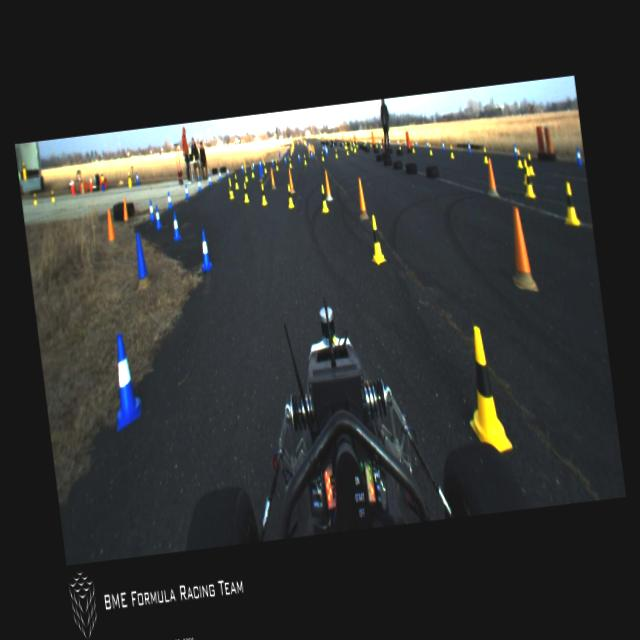blue_cone: (105, 332, 144, 432), (197, 228, 213, 270), (170, 212, 181, 240), (152, 204, 162, 230), (148, 200, 156, 222), (574, 146, 582, 166), (166, 190, 172, 210), (183, 183, 190, 200), (196, 176, 202, 192), (512, 143, 518, 159), (134, 172, 140, 186), (466, 140, 471, 154), (207, 174, 211, 186), (218, 168, 222, 180), (240, 162, 244, 174), (440, 139, 444, 151), (226, 167, 230, 177), (283, 154, 287, 164), (403, 137, 407, 147), (270, 157, 274, 166), (251, 160, 254, 171), (258, 160, 262, 168), (425, 140, 429, 148), (414, 140, 418, 148), (297, 152, 300, 162), (396, 138, 399, 146), (326, 146, 328, 155), (310, 150, 312, 158), (388, 137, 390, 145)
orange_cone: (69, 177, 75, 190), (88, 174, 92, 184)
unknown_cone: (503, 204, 539, 295), (130, 230, 153, 292), (482, 157, 499, 197), (354, 177, 369, 220), (322, 168, 334, 200), (104, 208, 115, 242), (288, 168, 296, 192), (120, 197, 128, 221), (268, 166, 276, 189)
yellow_cone: (458, 324, 512, 454), (366, 214, 386, 266), (560, 180, 580, 227), (522, 165, 537, 200), (318, 184, 329, 214), (520, 158, 529, 184), (285, 183, 294, 208), (526, 152, 535, 176), (258, 182, 267, 205), (242, 180, 250, 202), (514, 147, 522, 168), (227, 182, 234, 200), (481, 146, 488, 164), (20, 161, 27, 179), (233, 172, 239, 188), (226, 178, 232, 194), (32, 192, 38, 206), (50, 189, 56, 202), (250, 165, 255, 178), (410, 141, 415, 154), (126, 172, 131, 184), (450, 144, 454, 158), (428, 142, 432, 156), (244, 168, 248, 180), (374, 138, 378, 148), (100, 170, 104, 179), (353, 144, 357, 153), (288, 157, 291, 168), (321, 150, 324, 161), (345, 146, 349, 154), (334, 148, 337, 158), (263, 162, 266, 172), (369, 138, 372, 148), (398, 141, 401, 149), (379, 140, 382, 148), (276, 160, 278, 170), (304, 154, 306, 164), (350, 142, 352, 150)
